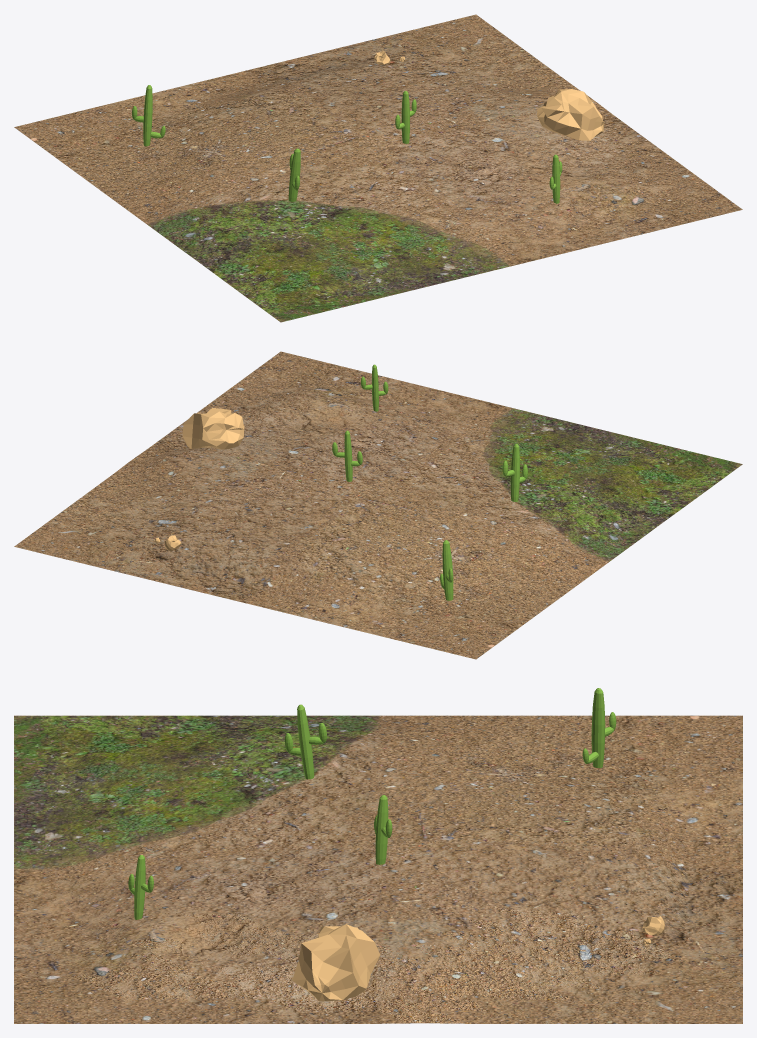
Rendered from SSFS.fbx.
The picture shows the model from 3 angles, top to bottom: view 1: azimuth 30°, elevation 25°; view 2: azimuth 150°, elevation 25°; view 3: azimuth 270°, elevation 25°; orthographic projection. The views are drawn at different scales.
Parts seen in each view (by area): view 1: Plane, group1446250878, group1910377098.001, group1305359395; view 2: Plane, group1446250878, group1305359395, group1910377098.001, group809628526; view 3: Plane, group1446250878, group1305359395, group809628526, group1910377098.001, group1910377098.
Part boxes in pixels (left/top/right/bottom): Plane: left=14, top=14, right=742, bottom=322; group1446250878: left=537, top=89, right=604, bottom=140; group1910377098.001: left=395, top=91, right=416, bottom=143; group1305359395: left=288, top=148, right=300, bottom=201; Plane: left=14, top=351, right=742, bottom=659; group1446250878: left=182, top=407, right=244, bottom=449; group1305359395: left=502, top=443, right=527, bottom=501; group1910377098.001: left=332, top=430, right=362, bottom=481; group809628526: left=442, top=540, right=453, bottom=600; Plane: left=14, top=715, right=742, bottom=1023; group1446250878: left=292, top=924, right=379, bottom=1001; group1305359395: left=284, top=704, right=326, bottom=779; group809628526: left=591, top=688, right=605, bottom=768; group1910377098.001: left=374, top=795, right=392, bottom=864; group1910377098: left=128, top=855, right=153, bottom=919.
Bounding box in the file's own units: 500 × 74.83 × 500.
